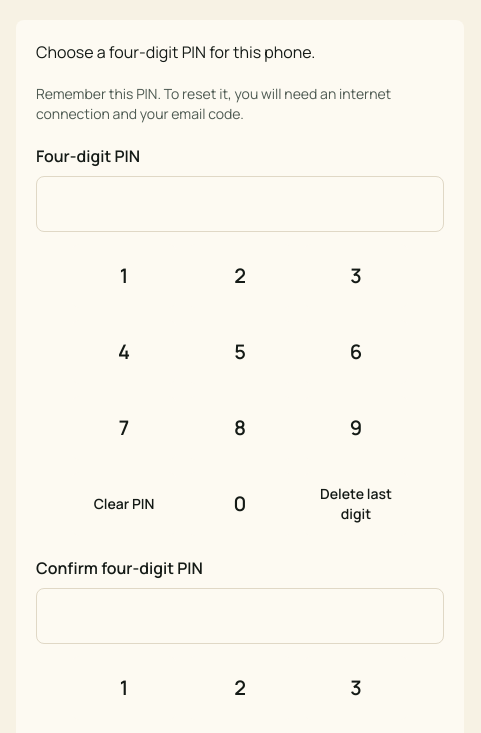
Test: Set PIN screen › rejects a weak PIN in the visible form
The image size is (481, 733).
In the password field named "four-digit PIN": (240, 204) [36, 176, 444, 232], type "1234"
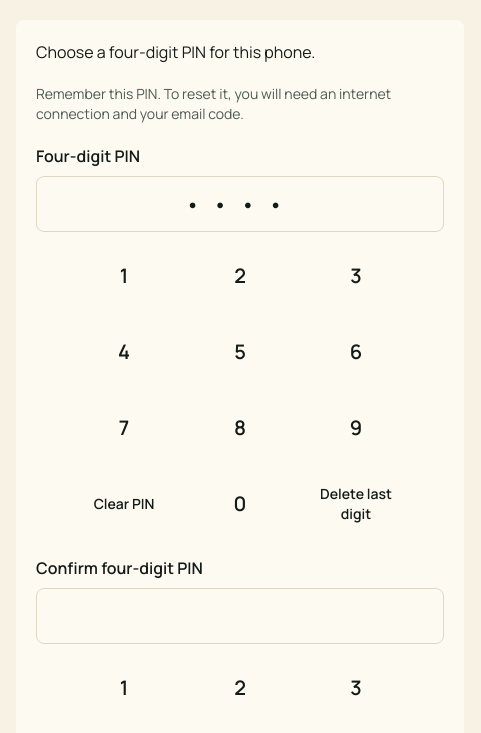
In the password field named "four-digit PIN": (240, 616) [36, 588, 444, 644], type "1234"
(page scrolled)
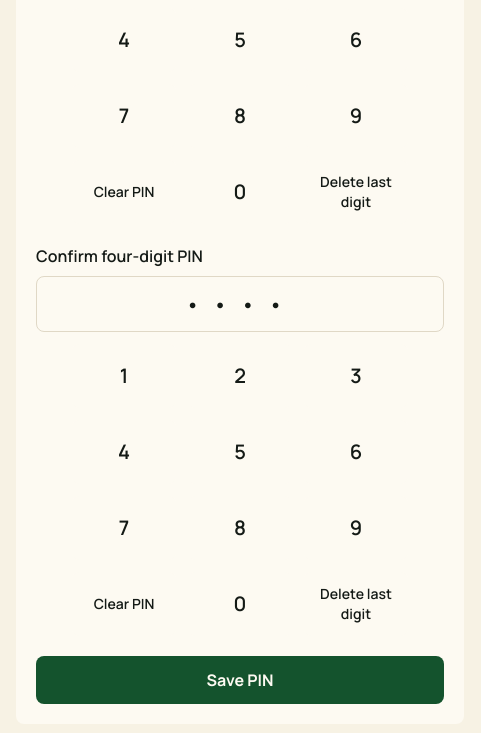
Click the button "Save PIN": click(240, 680) [36, 656, 444, 704]
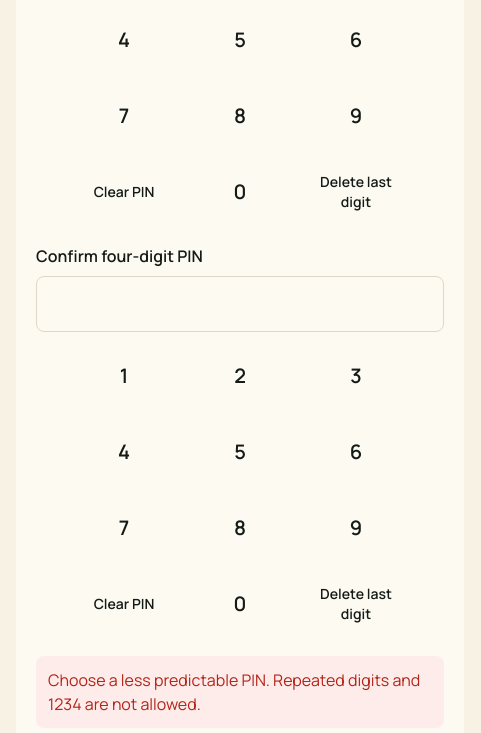
Result: the message shows "less predictable" at [48, 669, 420, 715]
